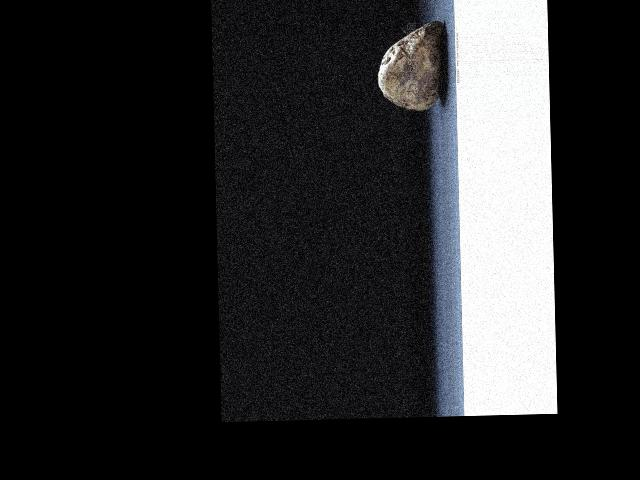beet: (377, 22, 446, 113)
